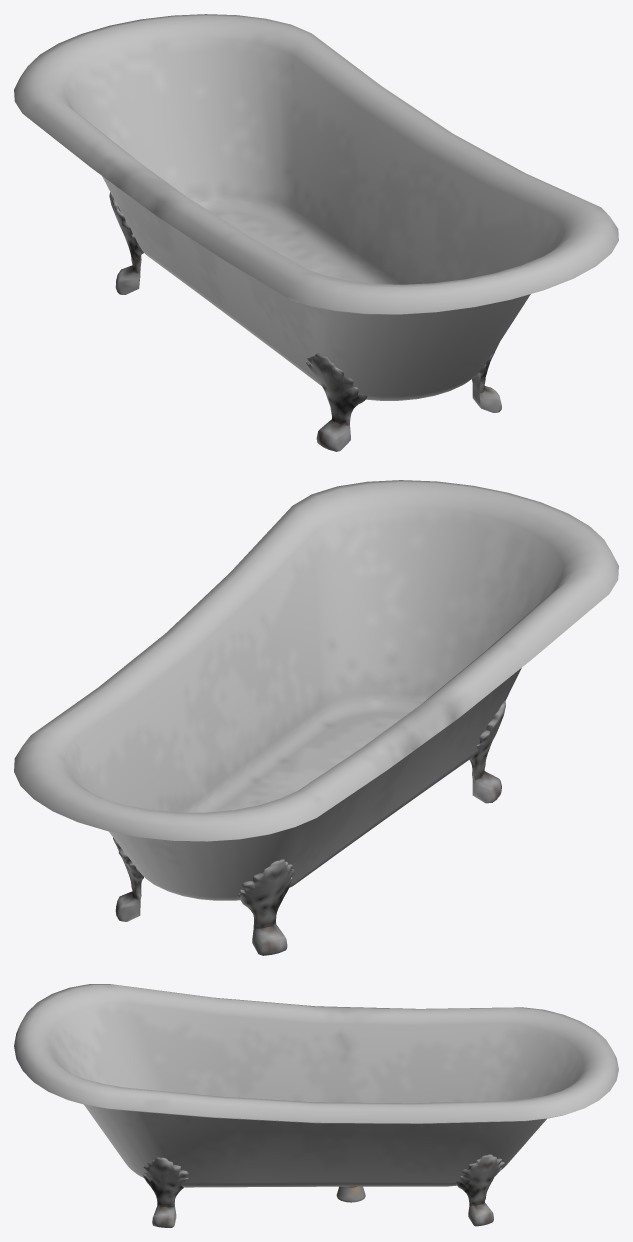
File: bathtub.fbx
3 renders of one model, top to bottom at view 1: azimuth 30°, elevation 25°; view 2: azimuth 150°, elevation 25°; view 3: azimuth 270°, elevation 25°, orthographic. The views are drawn at different scales.
Visible parts, largest first — view 1: SM_Bathtub; view 2: SM_Bathtub; view 3: SM_Bathtub.
Part boxes in pixels (x1,y1,x2,y2): SM_Bathtub: (14, 14, 618, 451); SM_Bathtub: (14, 480, 618, 955); SM_Bathtub: (14, 984, 618, 1227).
Size of the model in its own units: 112 by 72.26 by 242.
1 material, 1 textured.
